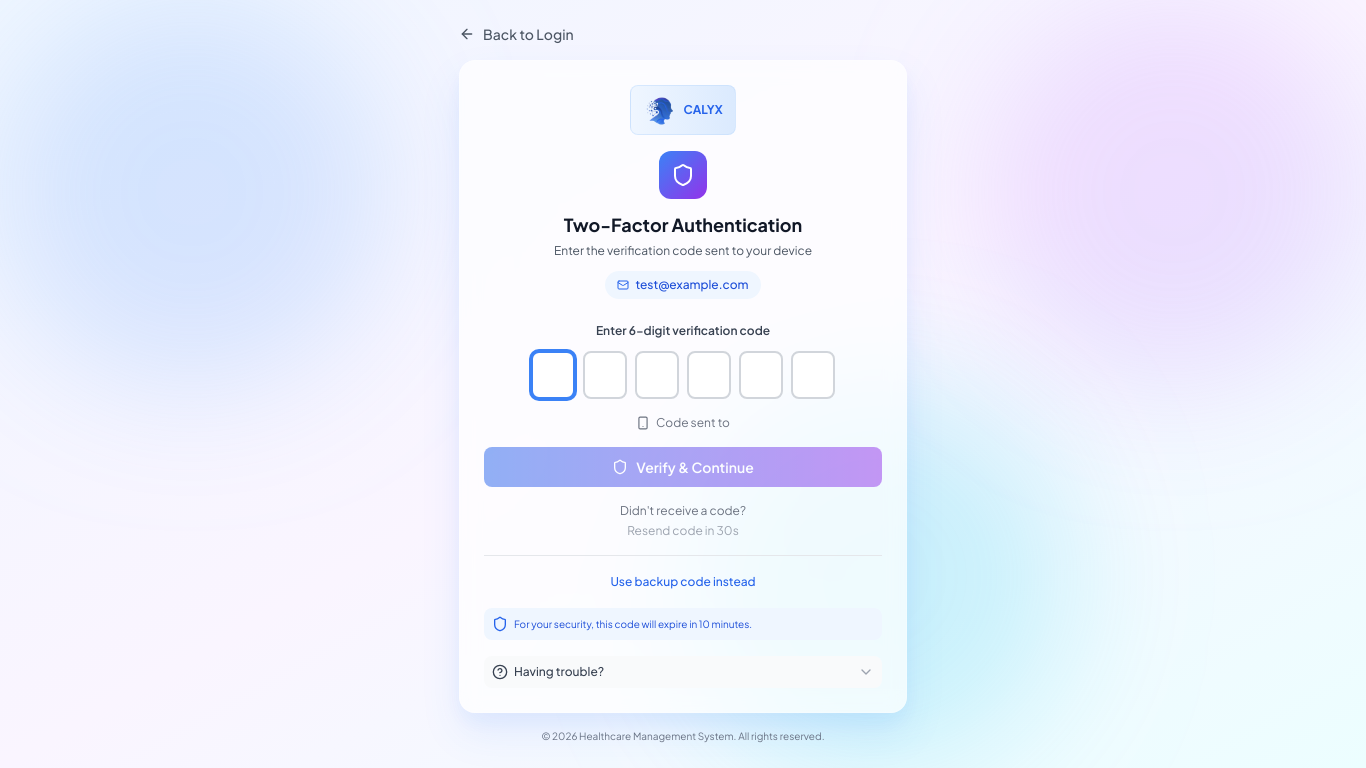
TwoFactorAuth Page › shows error for invalid OTP
Type "1" into the field named "Digit 1" at coordinates (553, 375), box [531, 351, 575, 399]
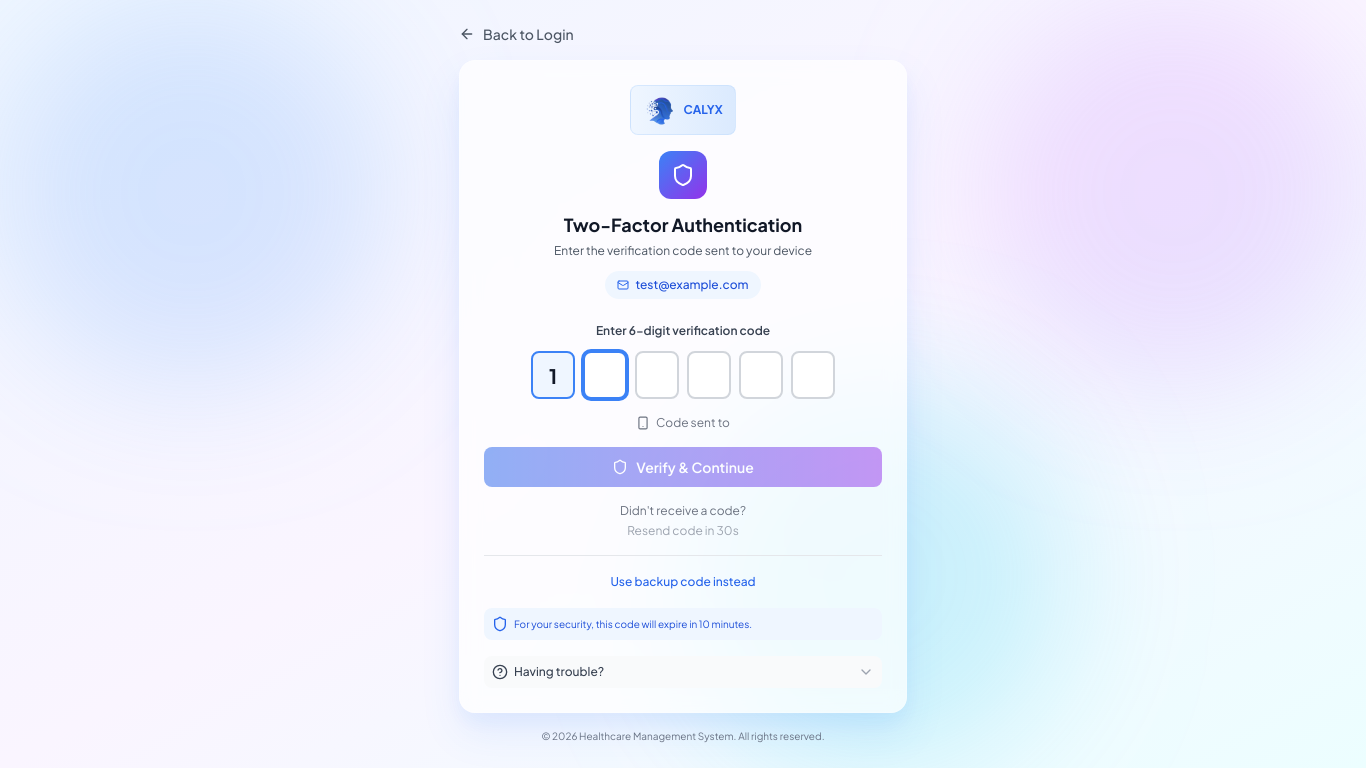
Type "2" into the field named "Digit 2" at coordinates (605, 375), box [583, 351, 627, 399]
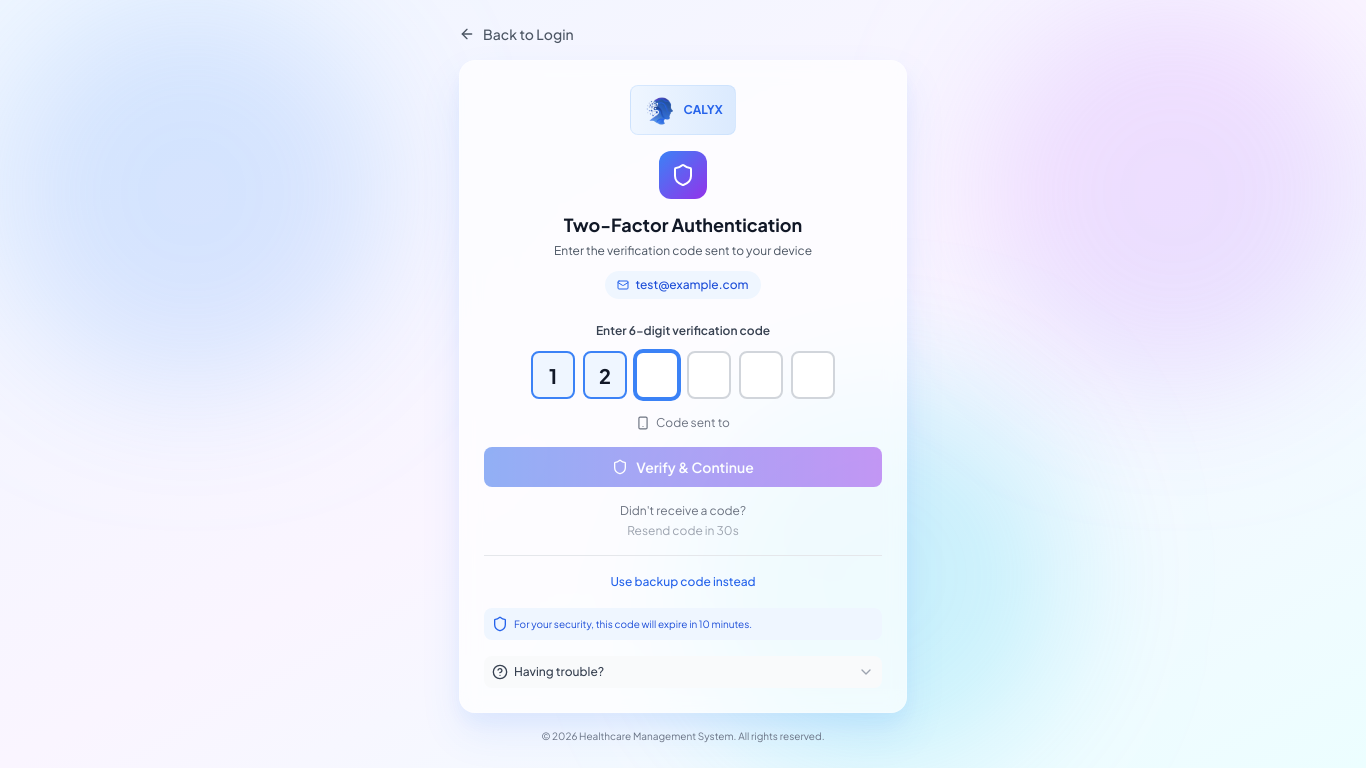
Type "3" into the field named "Digit 3" at coordinates (657, 375), box [635, 351, 679, 399]
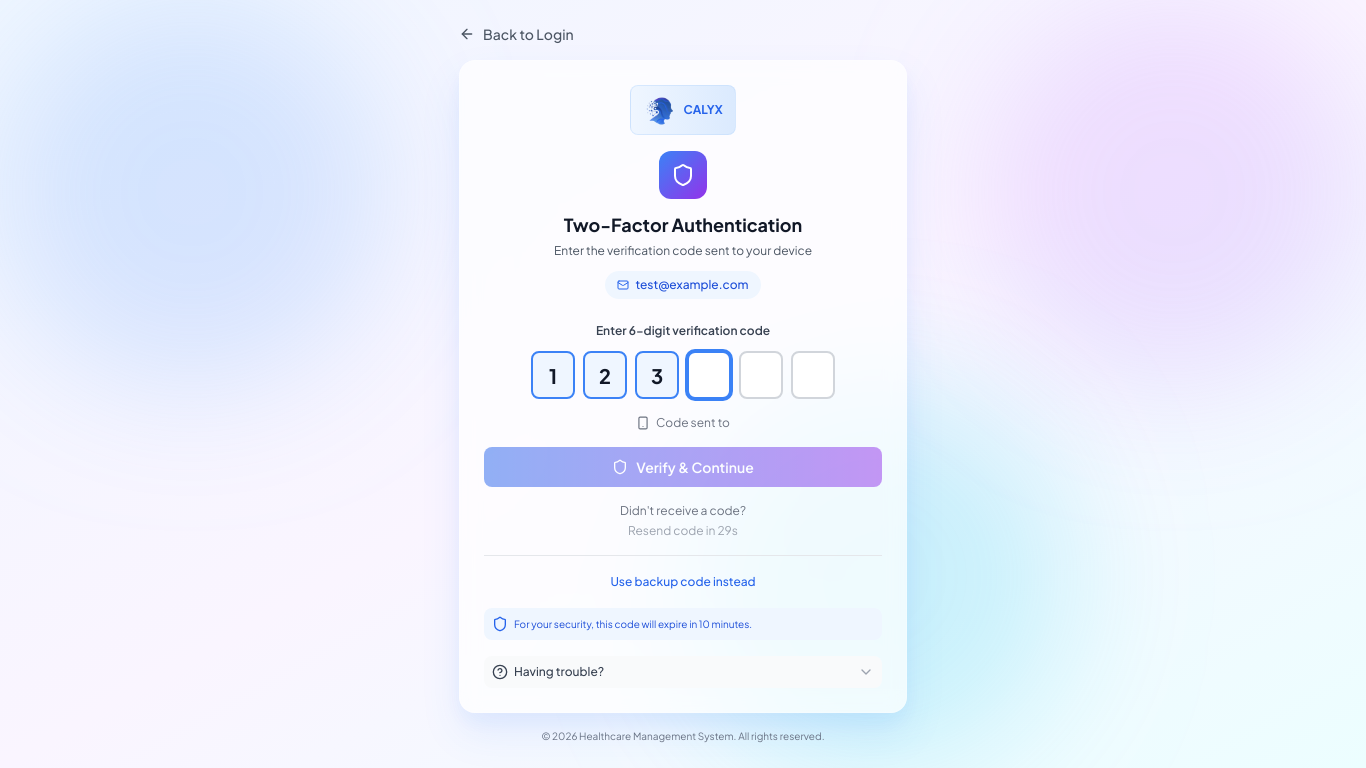
Type "4" into the field named "Digit 4" at coordinates (709, 375), box [687, 351, 731, 399]
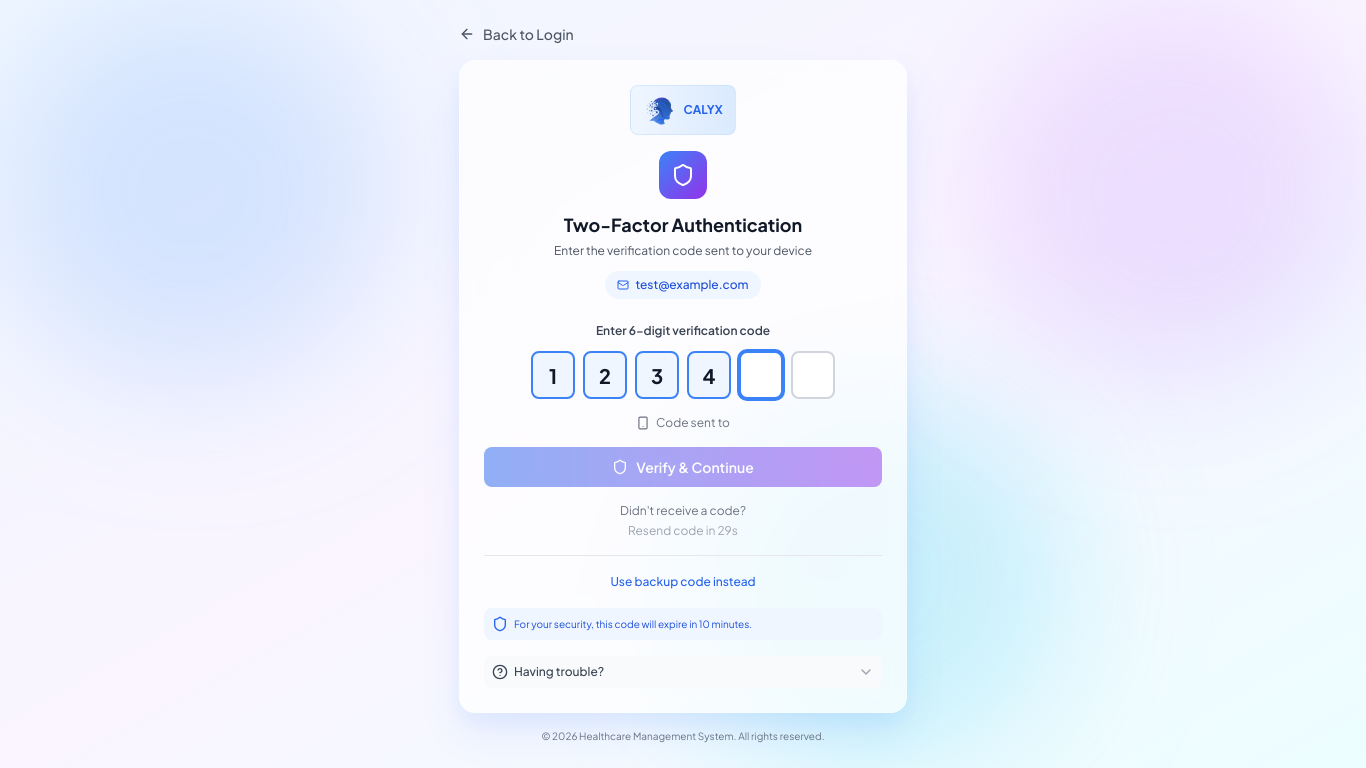
Type "5" into the field named "Digit 5" at coordinates (761, 375), box [739, 351, 783, 399]
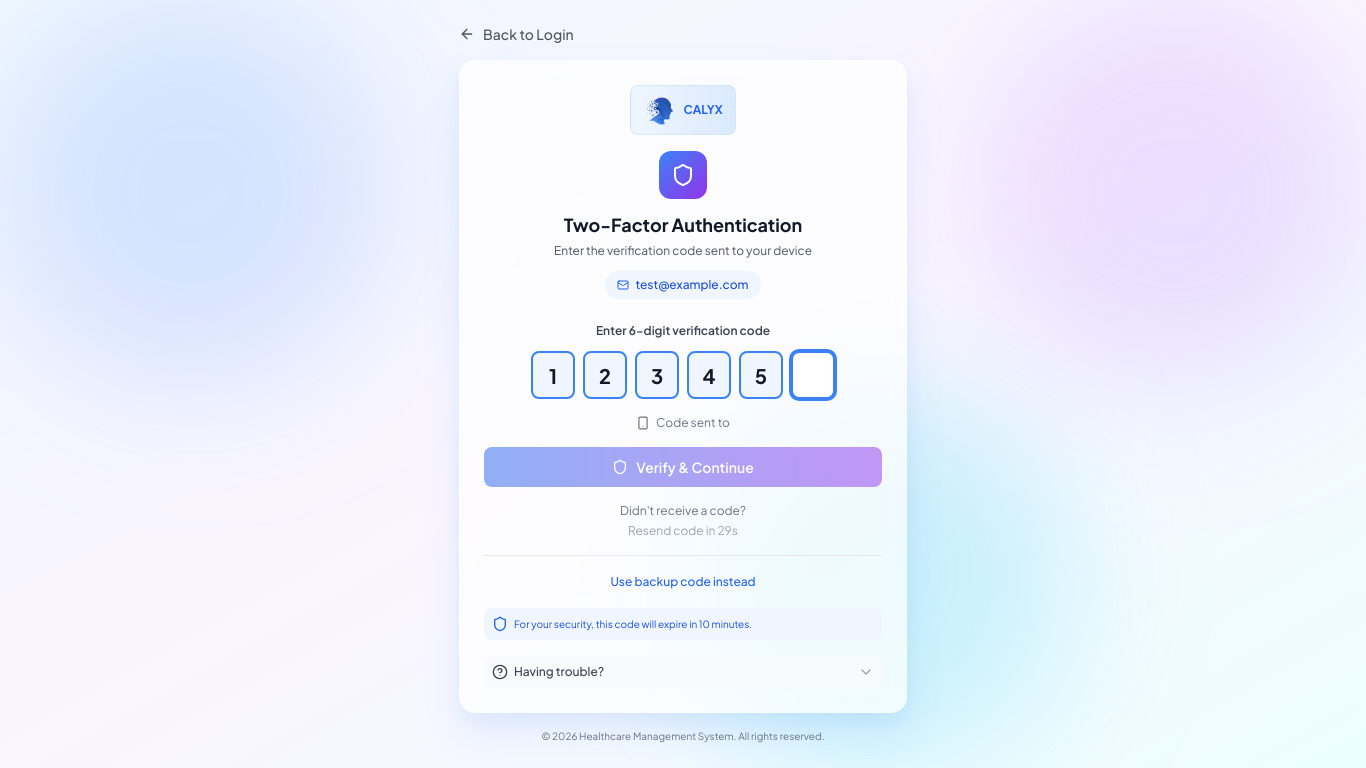
Type "6" into the field named "Digit 6" at coordinates (813, 375), box [791, 351, 835, 399]
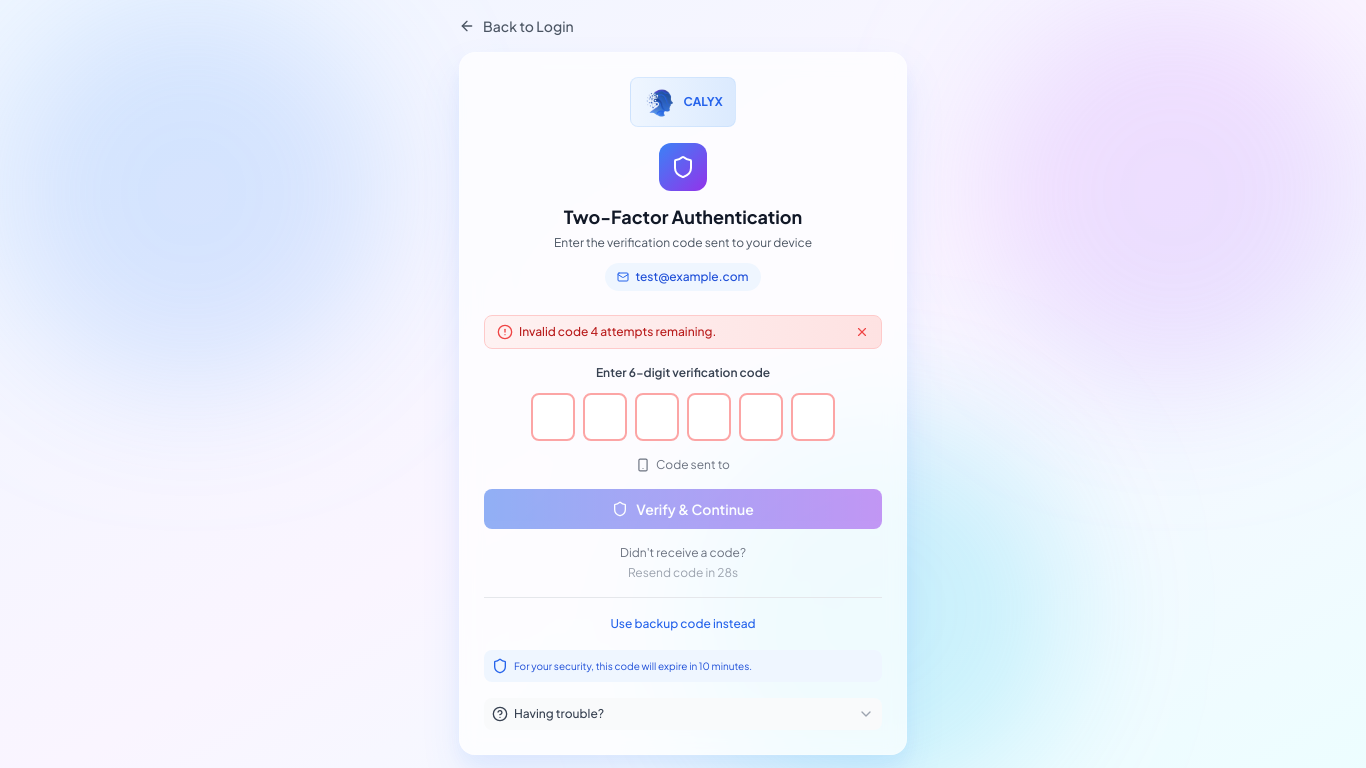
Result: the text "Invalid code 4 attempts remaining." is shown at [519, 324, 716, 340]
